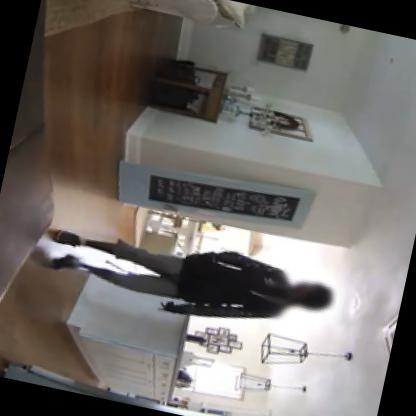Human Body: (35, 206, 346, 352)
